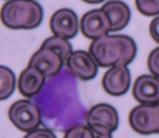M: (31, 64, 90, 130)
